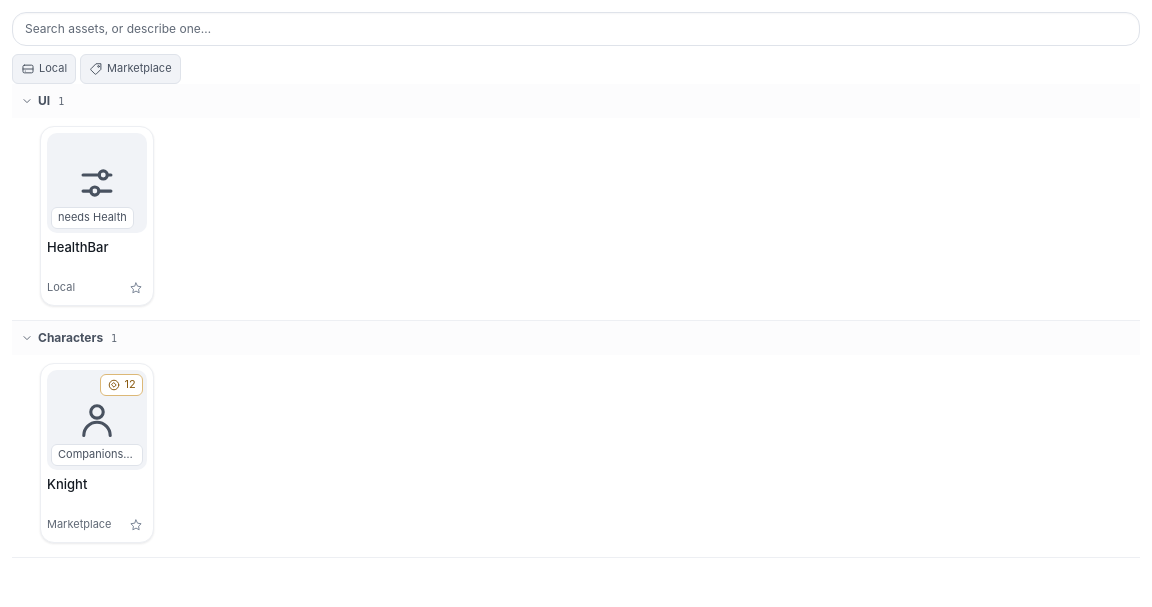
Test: a tier filter narrows the library to the tier it names, and says so when nothing is left
Click the button with test id "asset-filter" showing "Marketplace": (130, 69) [80,54,181,84]
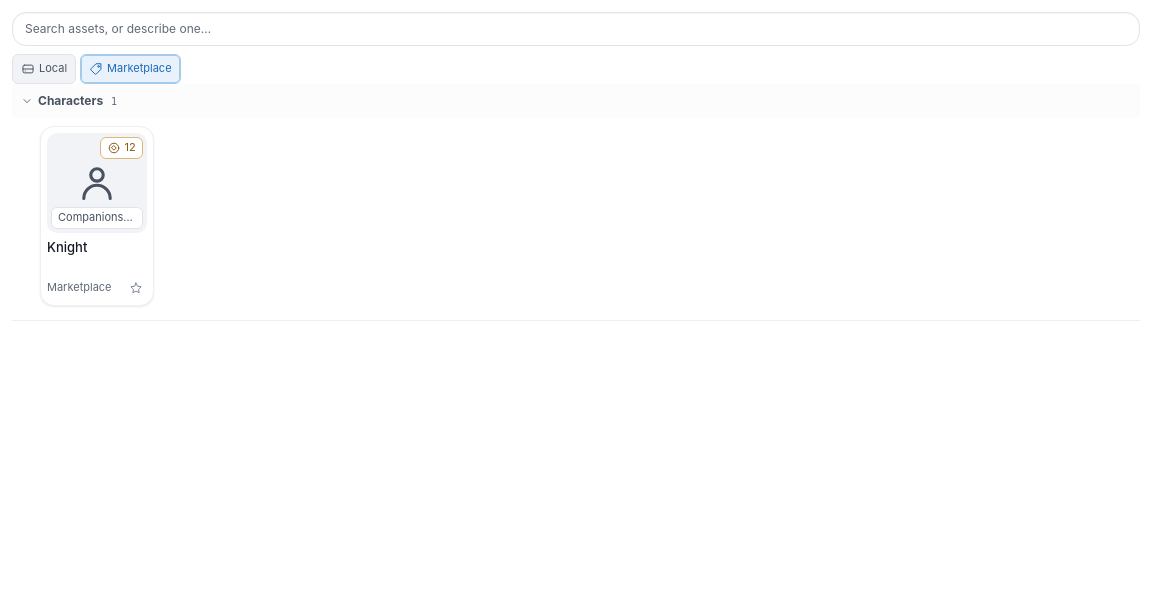
Expected: the button with test id "asset-filter" is pressed, [80,54,181,84]
Click the button with test id "asset-favourite": (136, 288) [125,277,147,299]
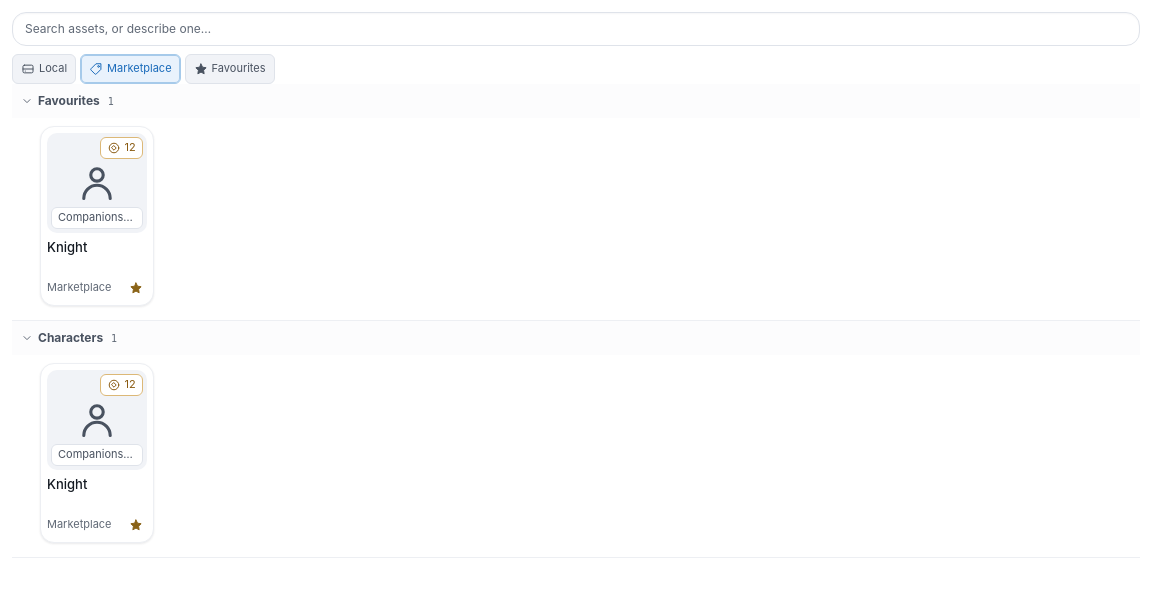
Click the button with test id "asset-filter" showing "Marketplace": (130, 69) [80,54,181,84]
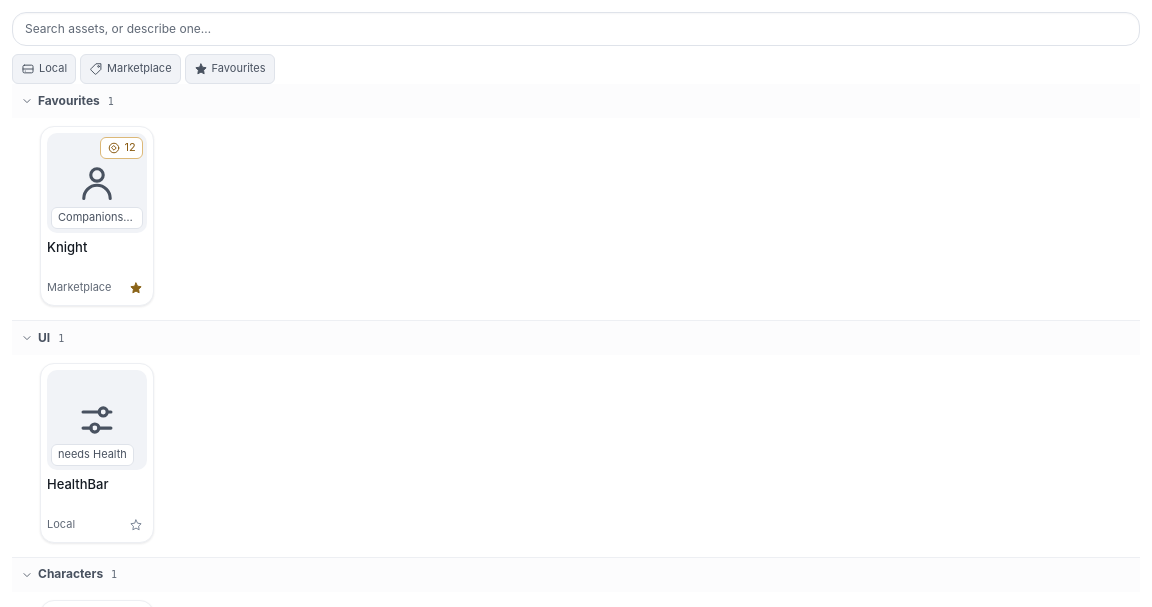
Click the button with test id "asset-filter" showing "Favourites": (230, 69) [185,54,274,84]
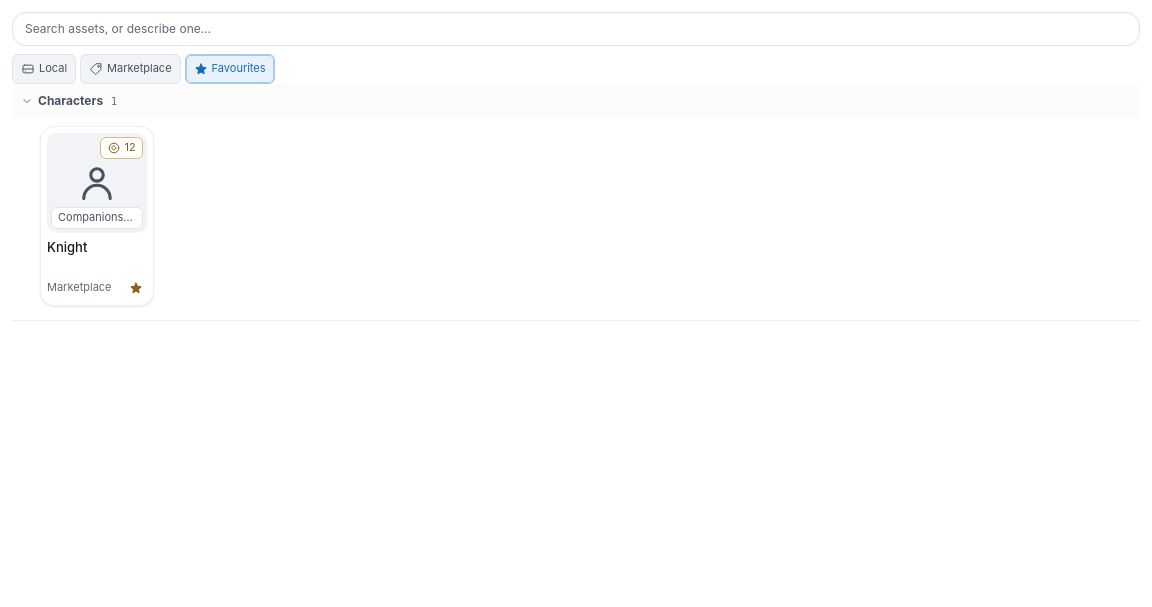
Expected: the number of buttons with test id "asset-item" is 1, [47,133,147,273]
Click the button with test id "asset-favourite": (136, 288) [125,277,147,299]
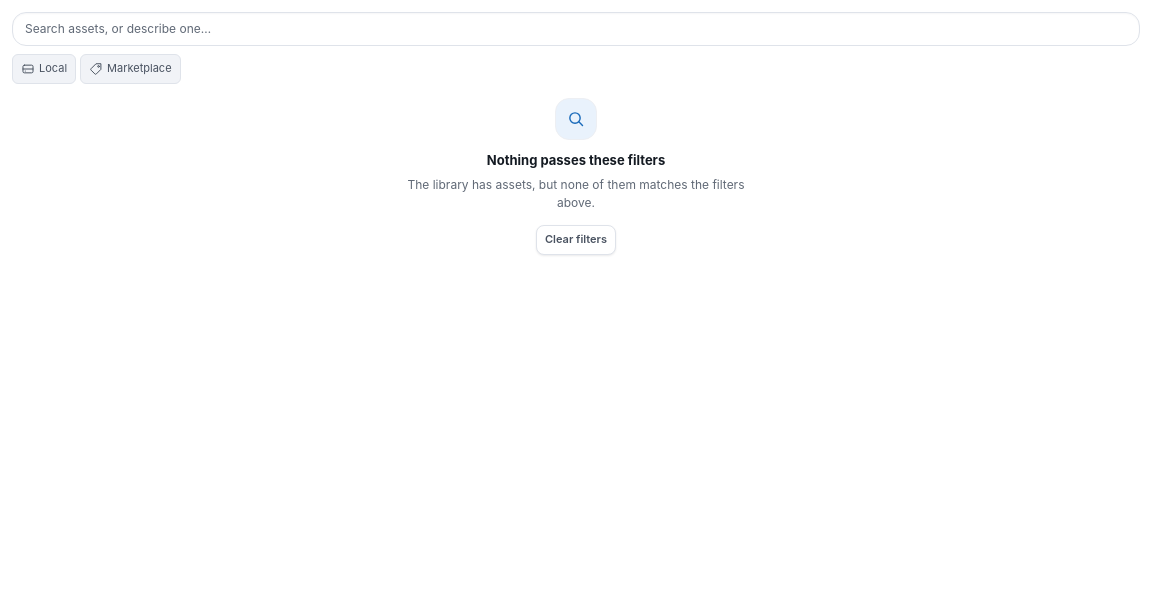
Click the button with test id "asset-clear-filters": (576, 240) [536,225,616,255]
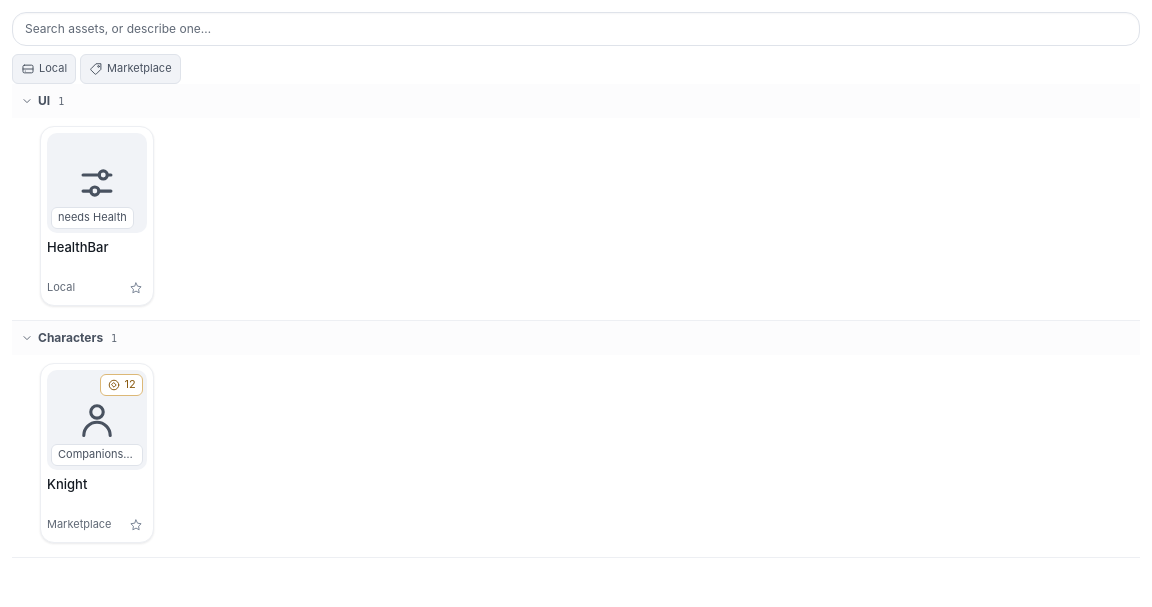
Expected: the number of buttons with test id "asset-item" is 2, [47,133,147,273]; [47,370,147,510]
